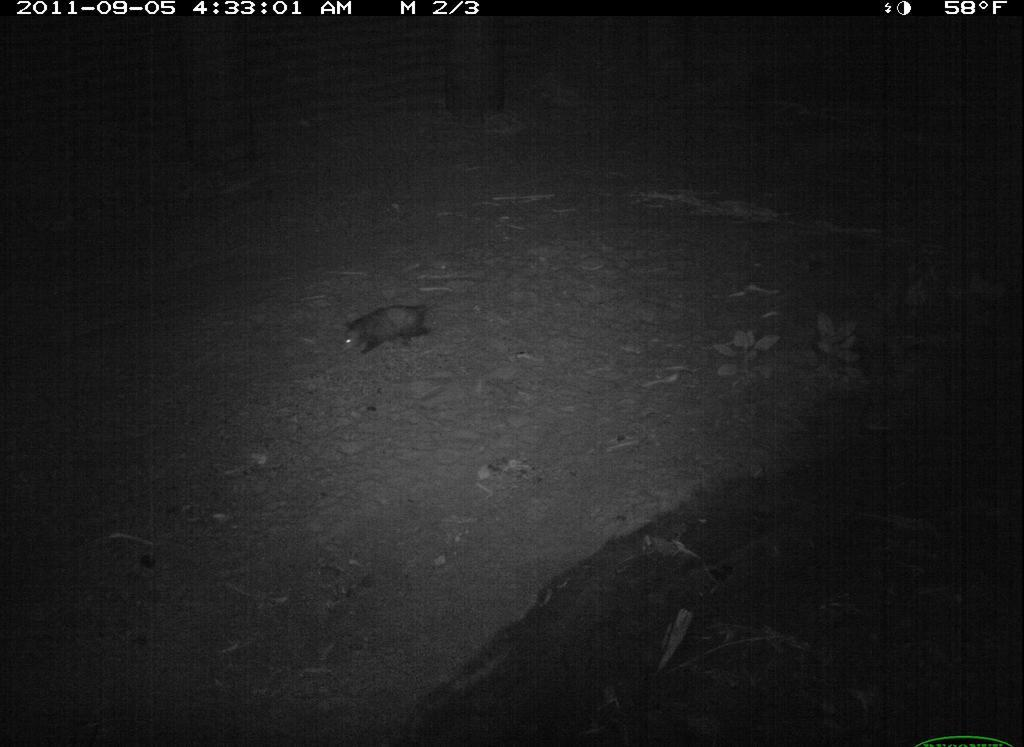opossum: (338, 295, 446, 359)
